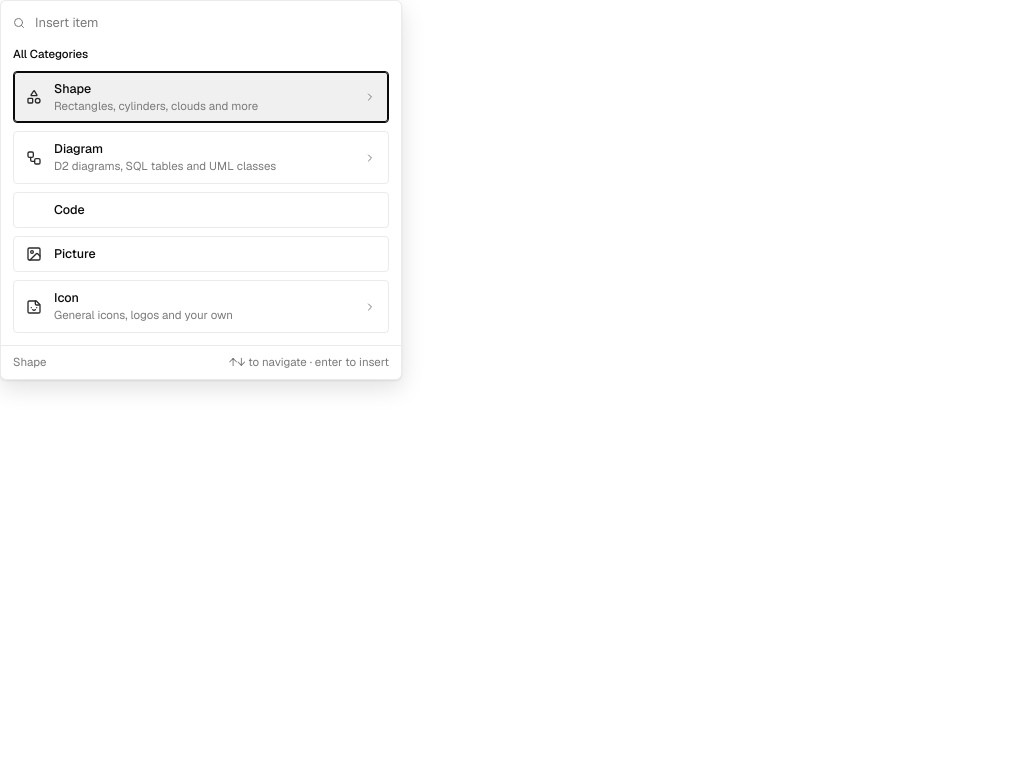
it: the Icon category › goes back to all categories with Escape
The image size is (1024, 768).
Click the option "Icon General icons, logos and your own" at (201, 307), box x1=13 y1=280 x2=389 y2=333
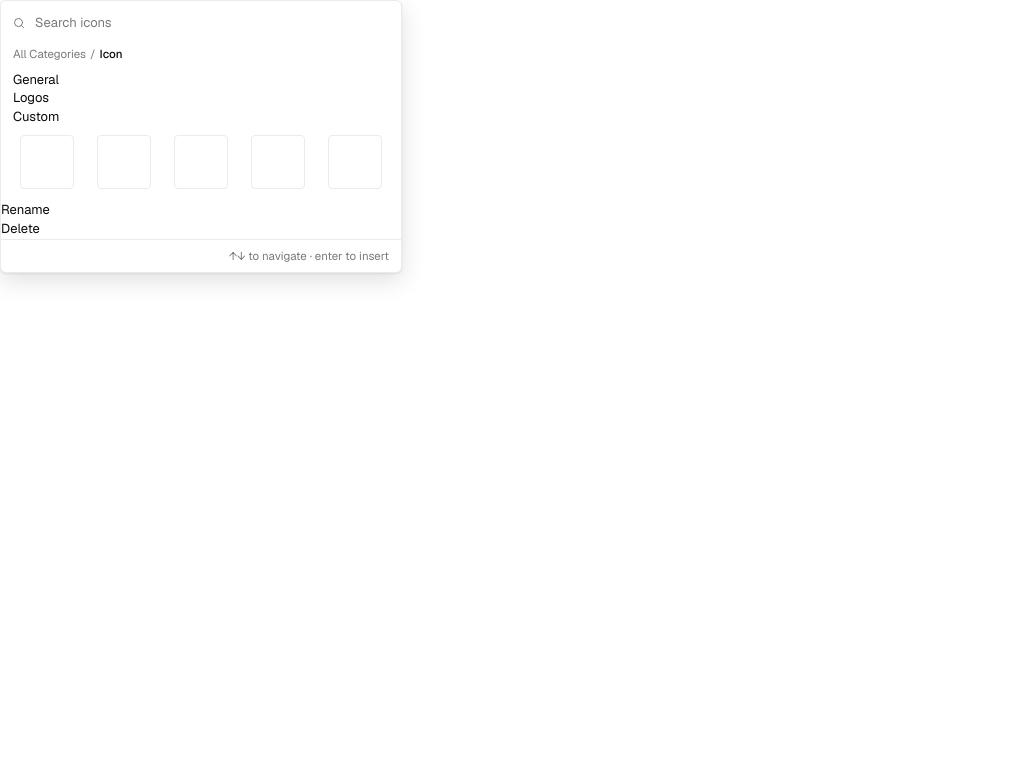
Press Escape in the dropdown with placeholder "Search icons", box x1=33 y1=13 x2=389 y2=34
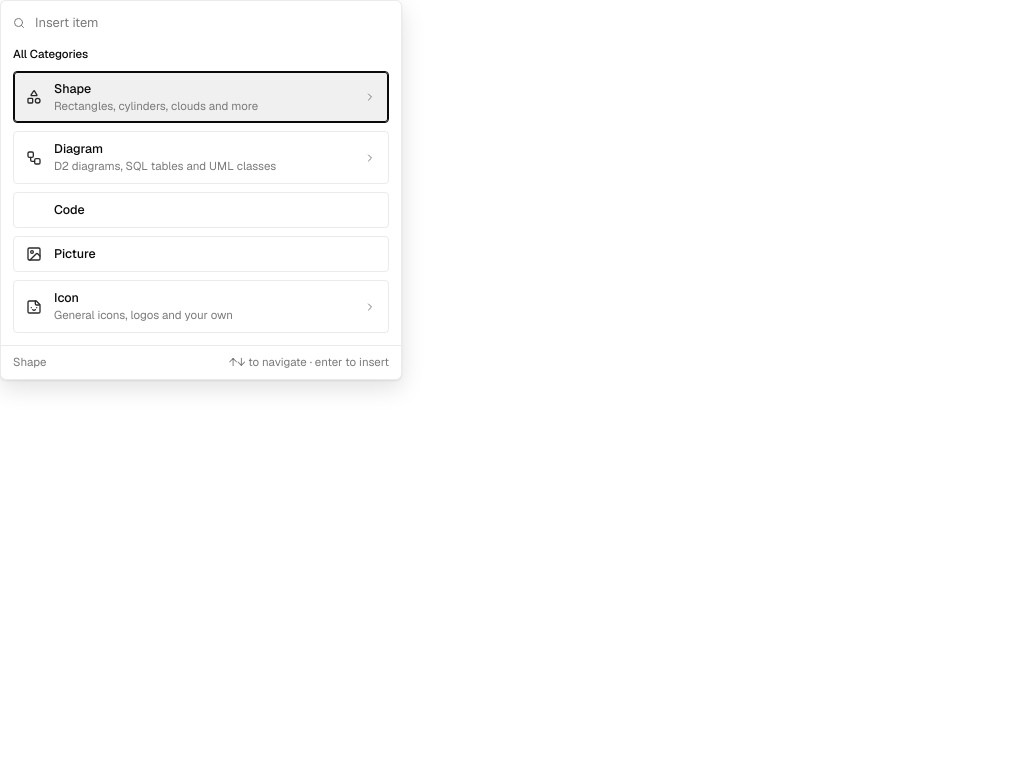
Now the navigation bar with class "crumbs" reads "All Categories", box x1=13 y1=46 x2=88 y2=61
